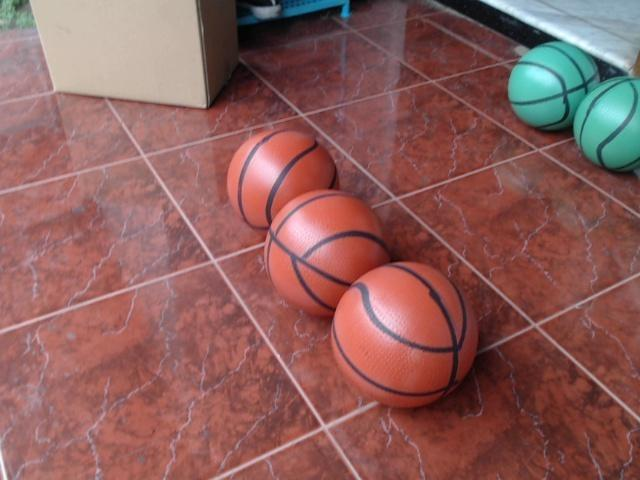Sports-Ball: (325, 258, 481, 405), (260, 183, 394, 319), (219, 116, 344, 236), (504, 38, 600, 134), (579, 74, 640, 180)
